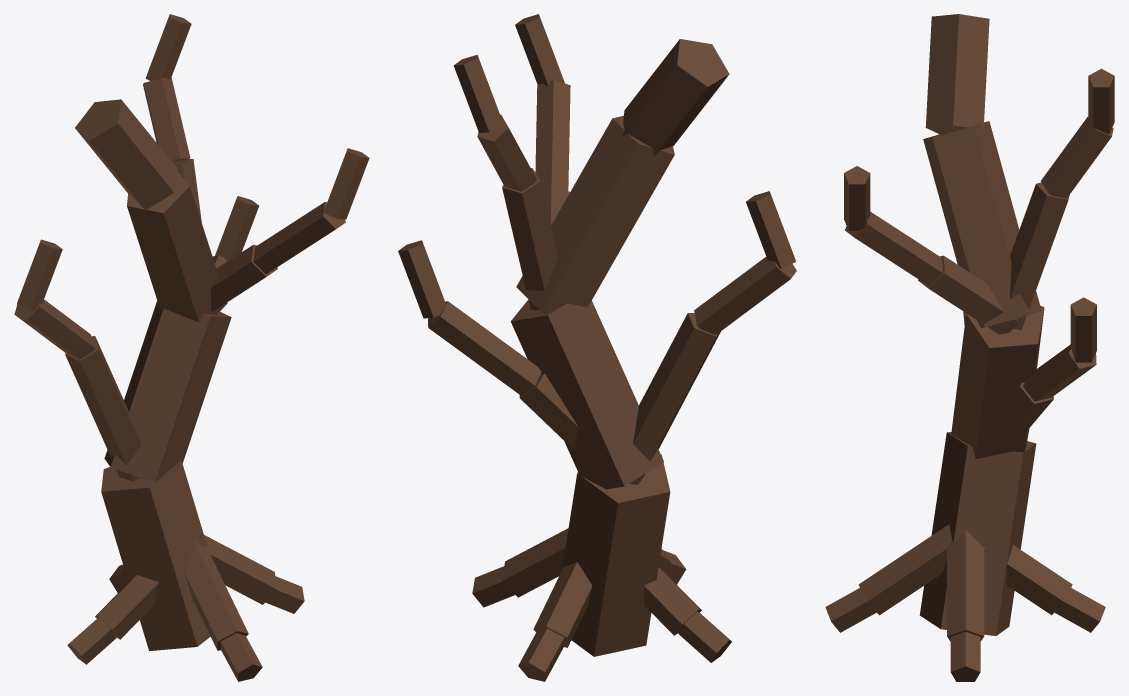
File: DeadTree_B.fbx
The picture shows the model from 3 angles, left to right: view 1: azimuth 30°, elevation 25°; view 2: azimuth 150°, elevation 25°; view 3: azimuth 270°, elevation 25°; orthographic projection. The views are drawn at different scales.
Parts seen in each view (by area): view 1: DeadTree_B; view 2: DeadTree_B; view 3: DeadTree_B.
Boxes of the visible parts, left/top/right/bottom form: DeadTree_B: left=14, top=14, right=369, bottom=681; DeadTree_B: left=398, top=14, right=796, bottom=681; DeadTree_B: left=825, top=14, right=1114, bottom=681.
Size of the model in its own units: 1.36 by 2.43 by 1.08.
1 material, 1 textured.
